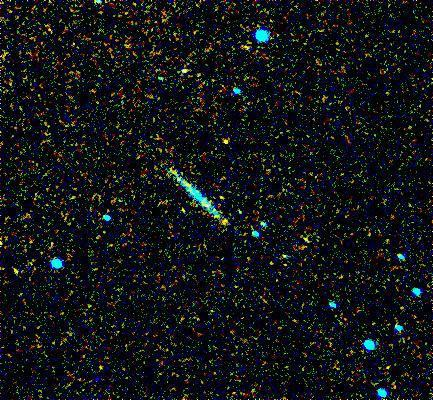star: (212, 130, 242, 160)
